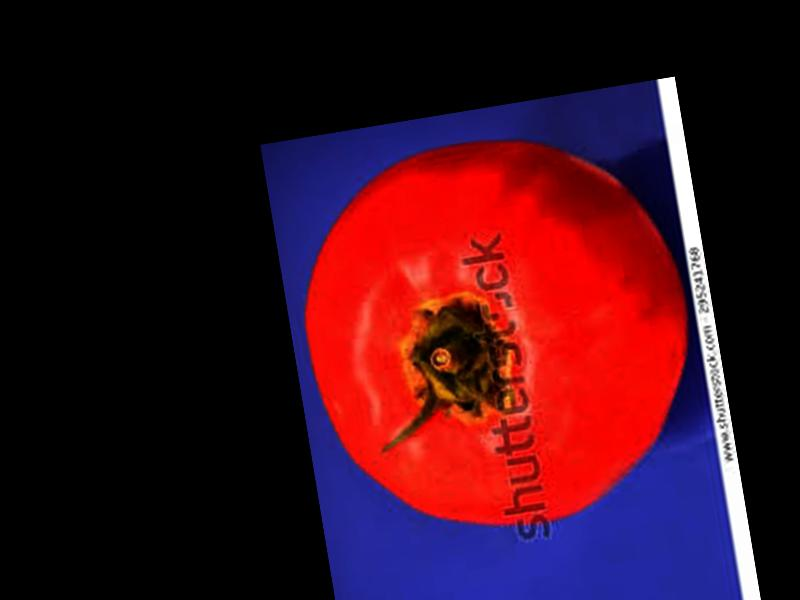Tomato: (280, 112, 709, 555)
